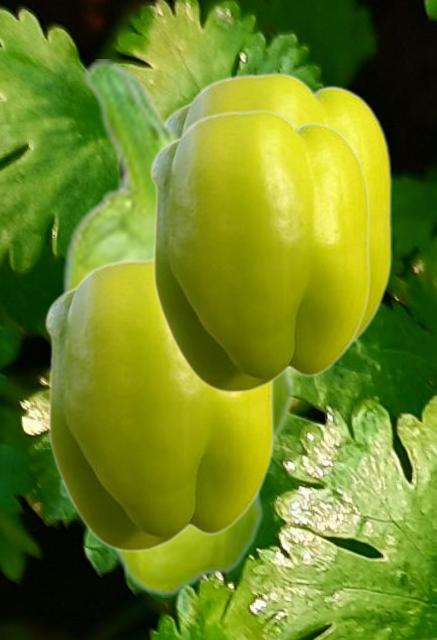bell_pepper: (44, 256, 273, 551), (149, 108, 369, 392), (166, 71, 391, 347), (108, 172, 295, 452), (60, 59, 177, 291), (108, 493, 263, 596), (125, 67, 182, 138)
